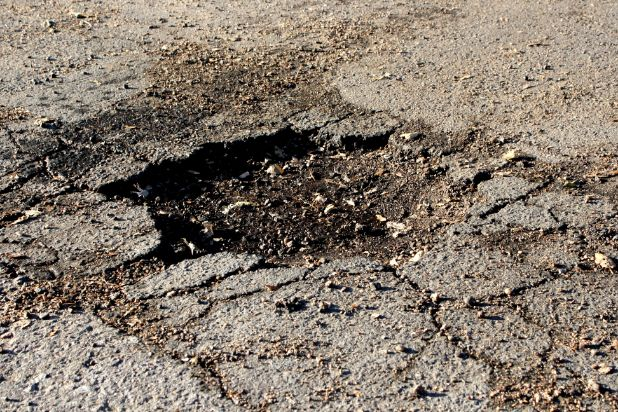pothole: (95, 119, 491, 291)
